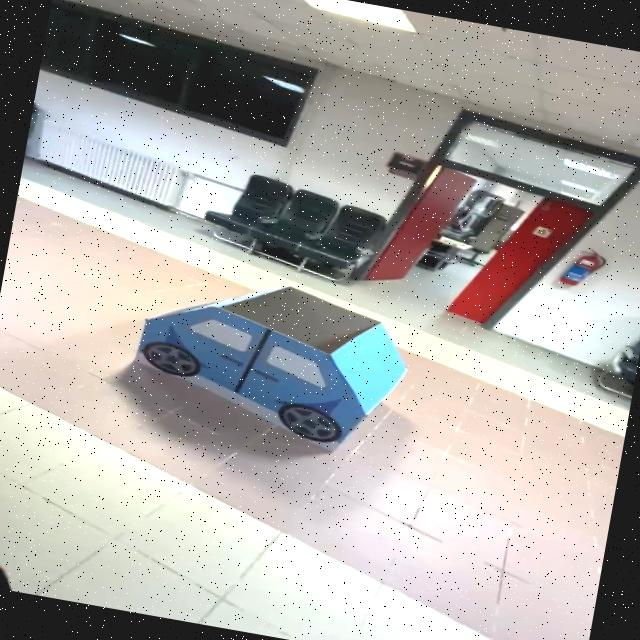blue_car: (96, 253, 478, 474)
